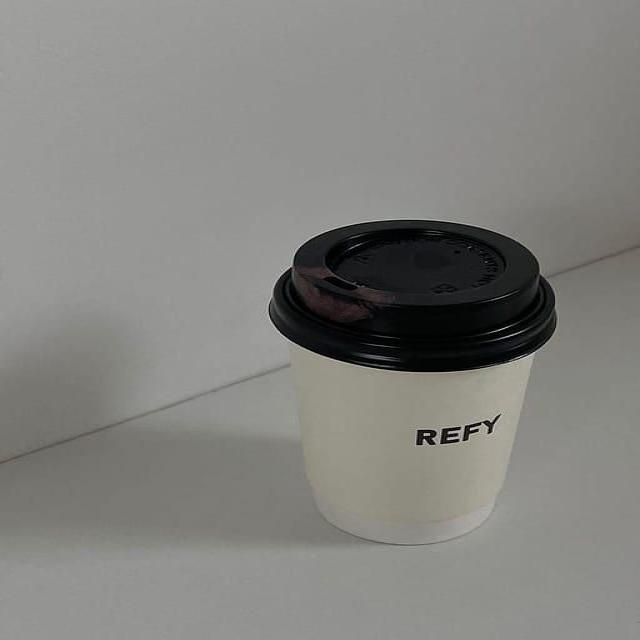paper cup: (268, 220, 557, 545)
